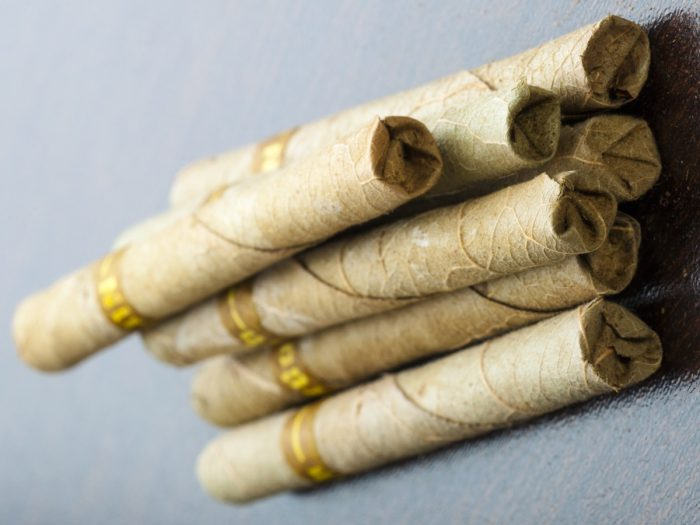cigarette: (9, 111, 444, 381)
